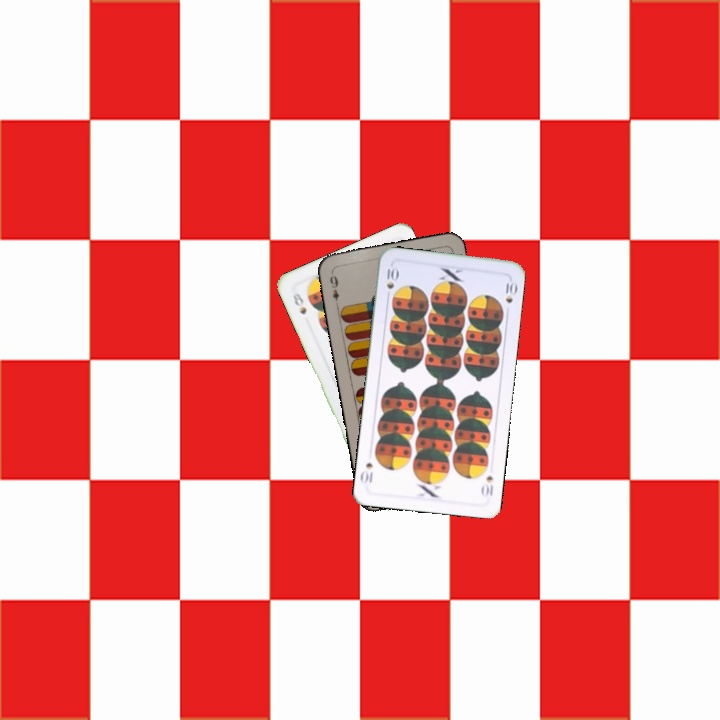E9: (325, 268, 342, 309)
S10: (382, 262, 400, 292), (477, 471, 496, 499)
S8: (289, 288, 309, 318)
